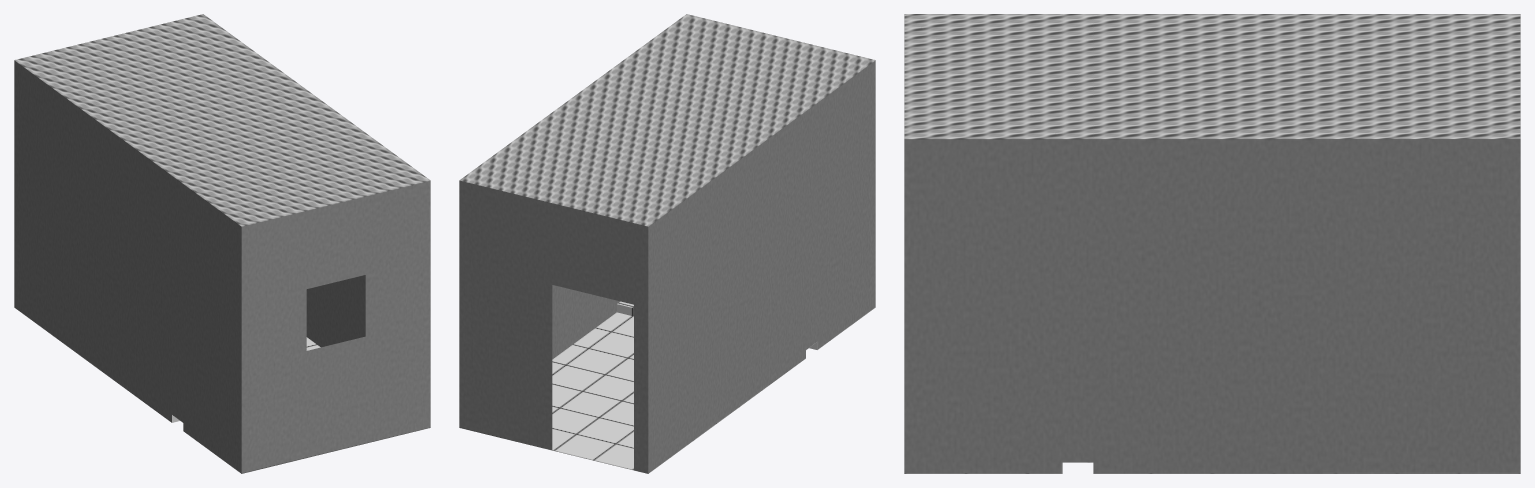
Rendered from Bathroom.glb.
3 renders of one model, left to right at view 1: azimuth 30°, elevation 25°; view 2: azimuth 150°, elevation 25°; view 3: azimuth 270°, elevation 25°, orthographic. The views are drawn at different scales.
Parts seen in each view (by area): view 1: Bathroom; view 2: Bathroom; view 3: Bathroom.
Part boxes in pixels (x1,y1,x2,y2): Bathroom: [14, 14, 430, 473]; Bathroom: [459, 14, 875, 473]; Bathroom: [904, 14, 1520, 473].
Bounding box in the file's own units: 2.4 × 3 × 5.
Materials: 1 (1 with a texture image).
